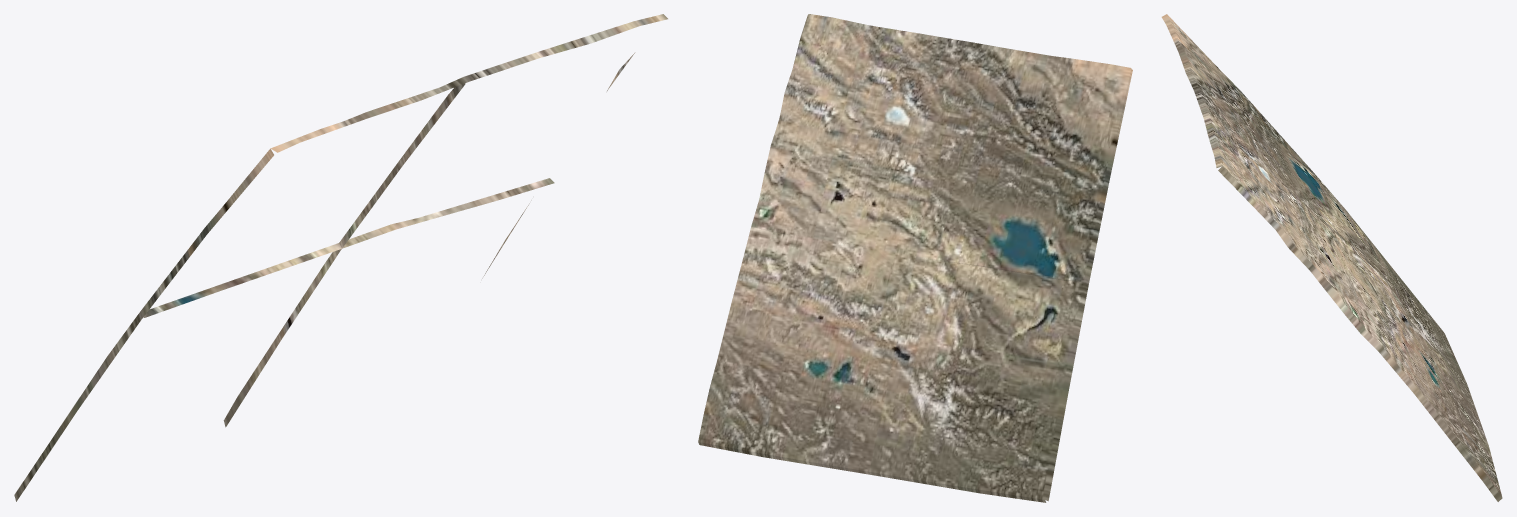
3 views of the same model, side by side, from view 1: azimuth 30°, elevation 25°; view 2: azimuth 150°, elevation 25°; view 3: azimuth 270°, elevation 25° (orthographic). The views are drawn at different scales.
Bounding box in the file's own units: 559640 × 511793 × 452579.
1 material, 1 textured.
